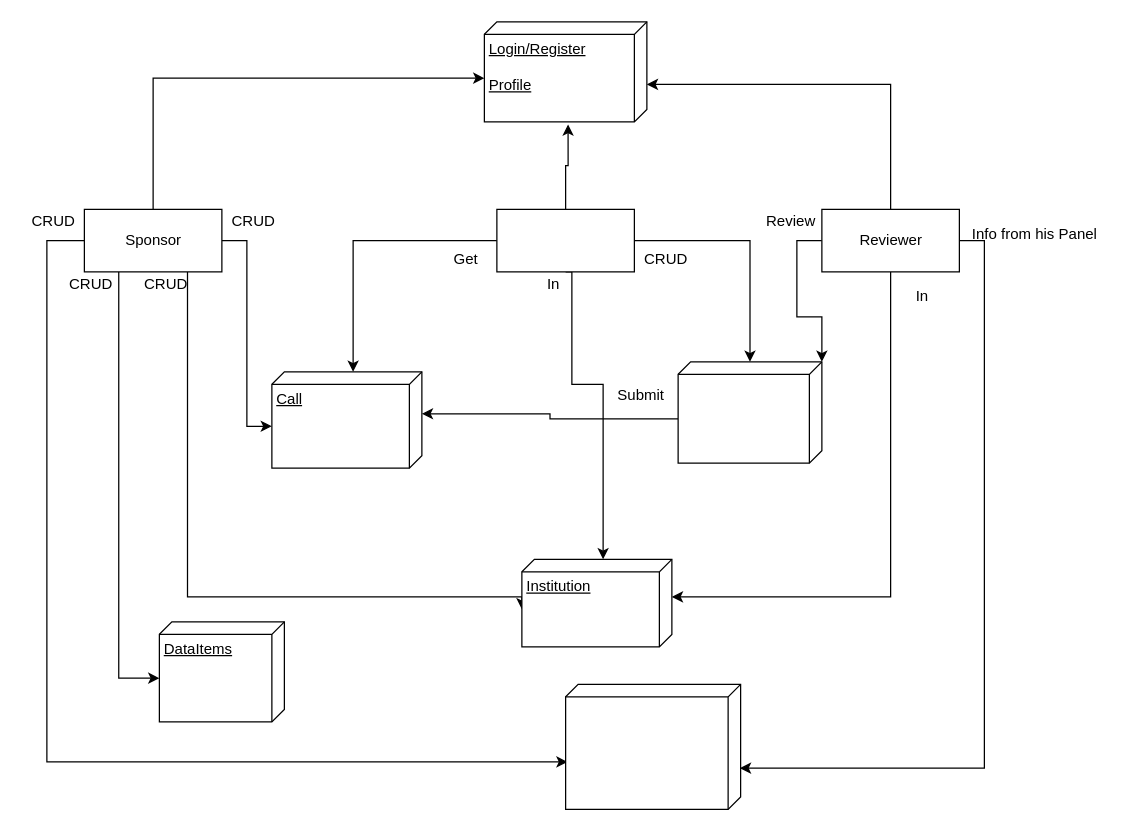
Image size: 1130x831. Some labels were removed from this diagram. Here are the shapes that lost their labels. From the top down, the box of each, then its label:
(496, 208, 634, 272): Student
(677, 361, 822, 463): Application
(564, 683, 741, 809): Panel Associate Reviewers
